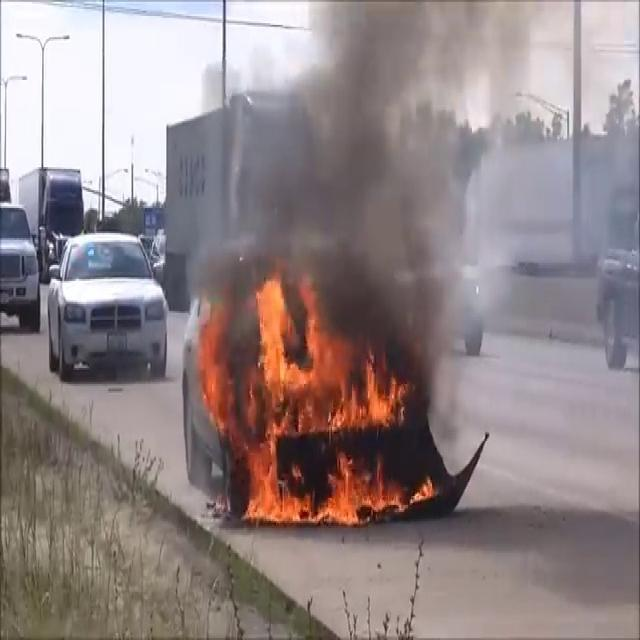Fire: (203, 268, 426, 532)
Smoke: (186, 2, 530, 342)
